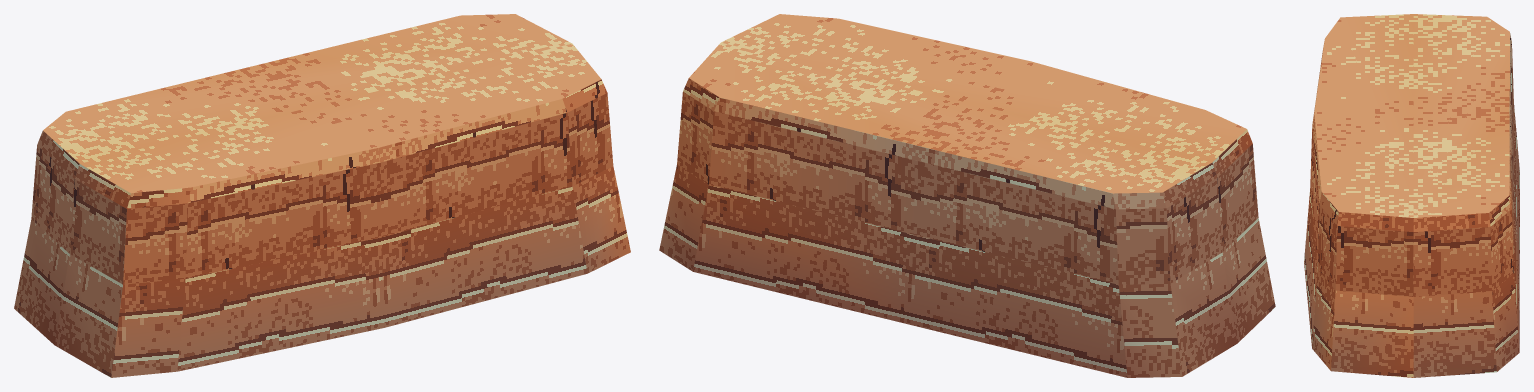
Rendered from wland.ledge__high.glb.
3 renders of one model, left to right at view 1: azimuth 30°, elevation 25°; view 2: azimuth 150°, elevation 25°; view 3: azimuth 270°, elevation 25°, orthographic. The views are drawn at different scales.
Parts seen in each view (by area): view 1: kit_ledge; view 2: kit_ledge; view 3: kit_ledge.
Boxes of the visible parts, <box> form: kit_ledge: <box>14,14,630,377</box>; kit_ledge: <box>659,14,1275,377</box>; kit_ledge: <box>1304,14,1519,377</box>.
Bounding box in the file's own units: 10.38 × 3.2 × 4.2.
Materials: 4 (4 with a texture image).
